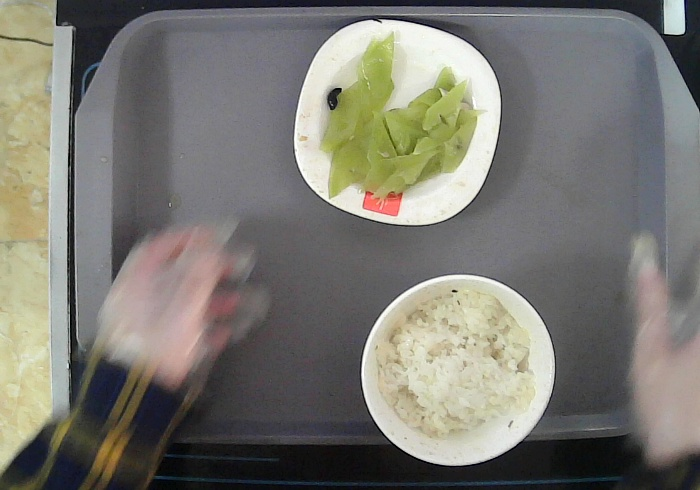SHKJ-Bai_Se_Si_Fang_Cai_Die: (293, 17, 502, 227)
SHKJ-Fan_Wan: (360, 272, 556, 466)
